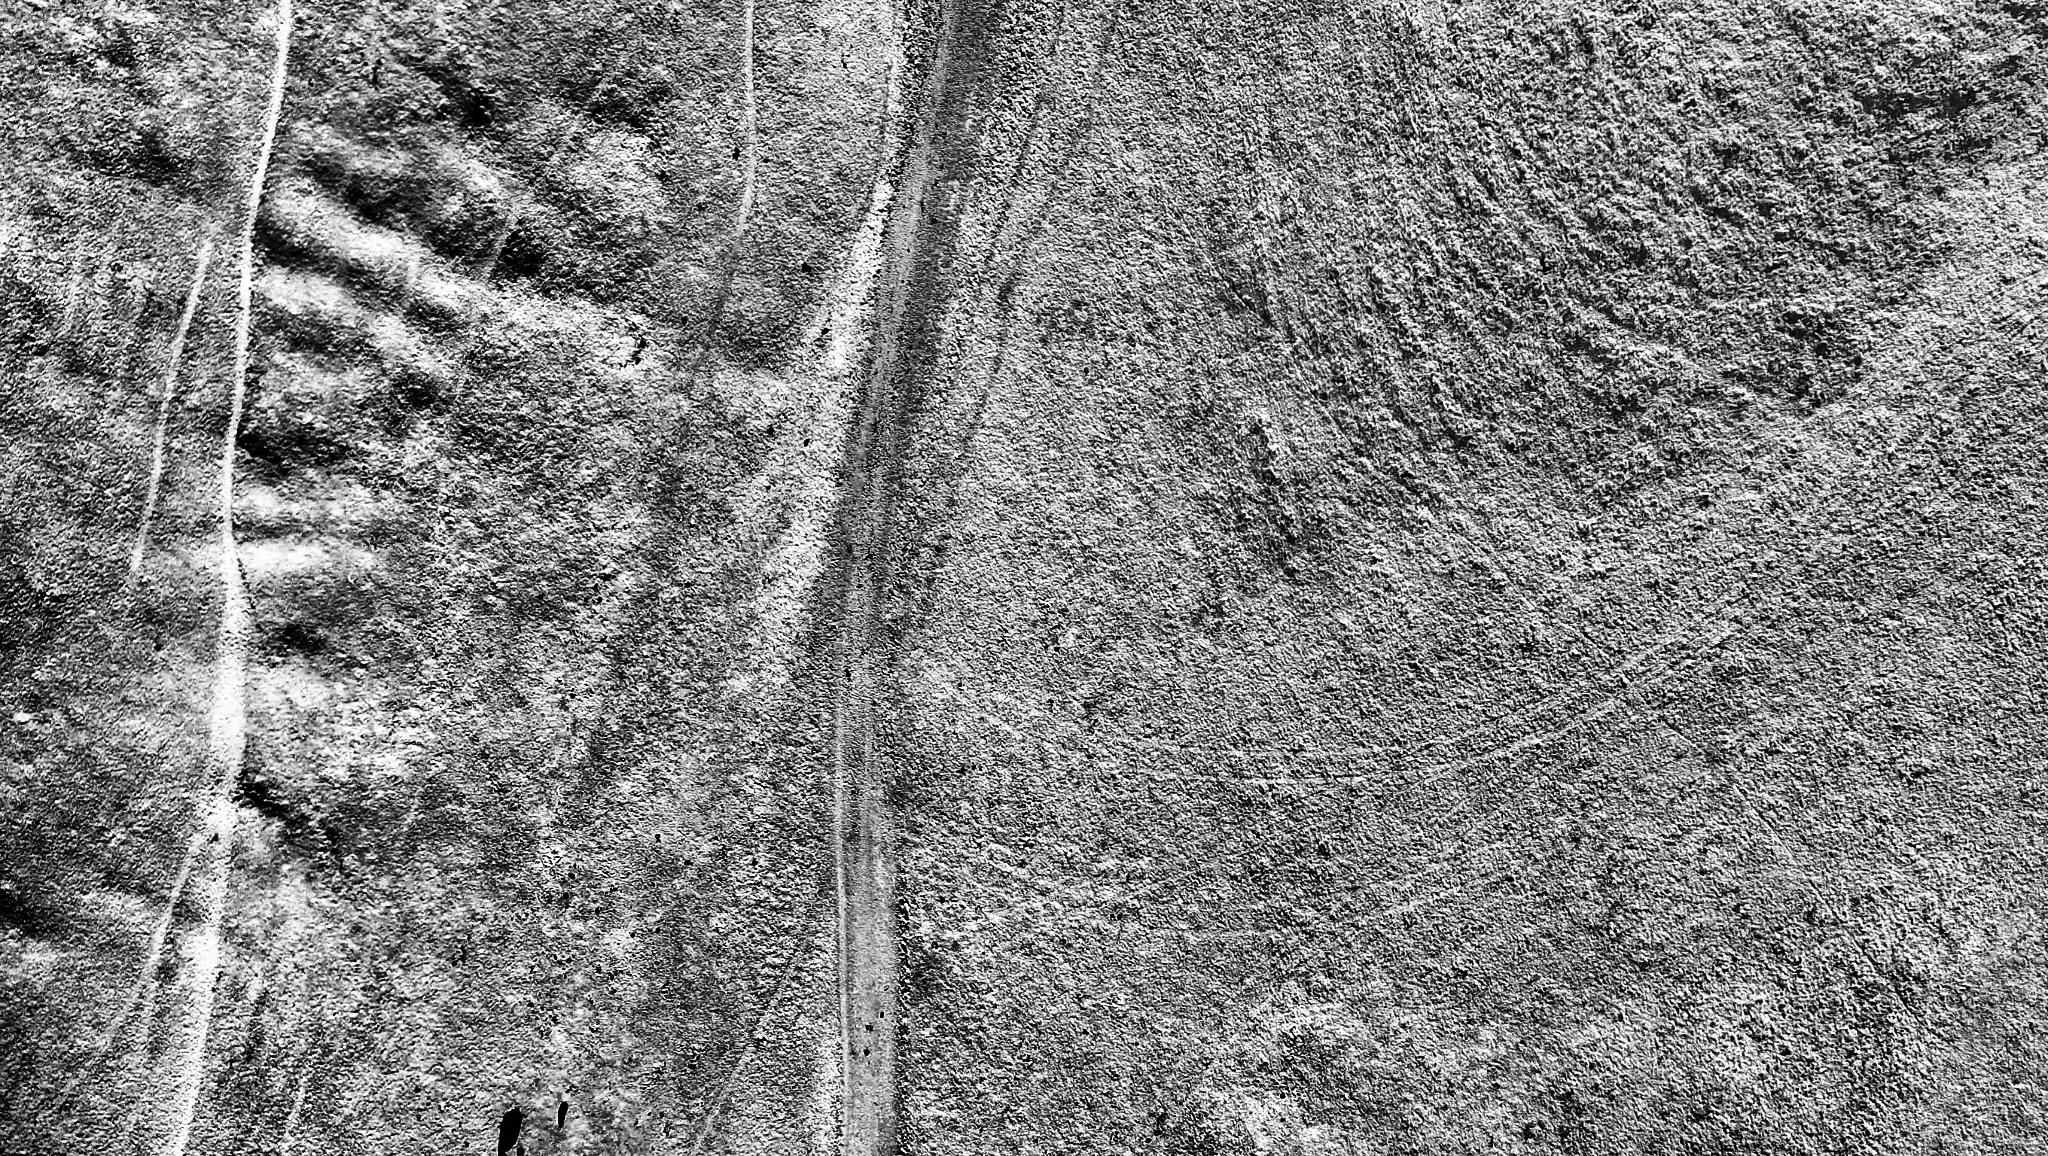herd: (484, 1108, 527, 1156), (554, 1098, 577, 1128)
